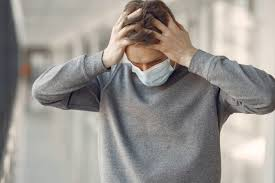with-mask: (112, 1, 188, 92)
